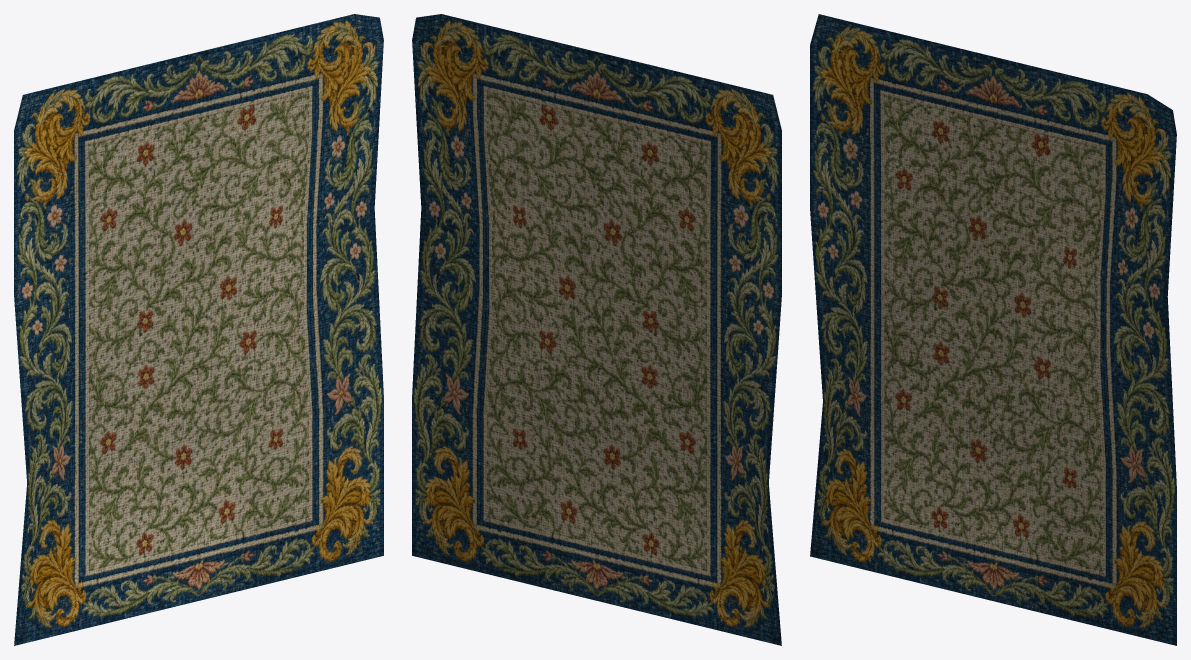
File: mm9_deco_tapestry_flower.glb
The picture shows the model from 3 angles, left to right: view 1: azimuth 30°, elevation 25°; view 2: azimuth 150°, elevation 25°; view 3: azimuth 330°, elevation 25°; orthographic projection.
Visible parts, largest first — view 1: Tapestry_flower; view 2: Tapestry_flower; view 3: Tapestry_flower.
Boxes of the visible parts, x1,y1,x2,y2 form: Tapestry_flower: (14,14,383,645); Tapestry_flower: (412,14,781,645); Tapestry_flower: (810,14,1176,645).
Size of the model in its own units: 1.63 by 2.31 by 2.59e-07.
Materials: 1 (1 with a texture image).
